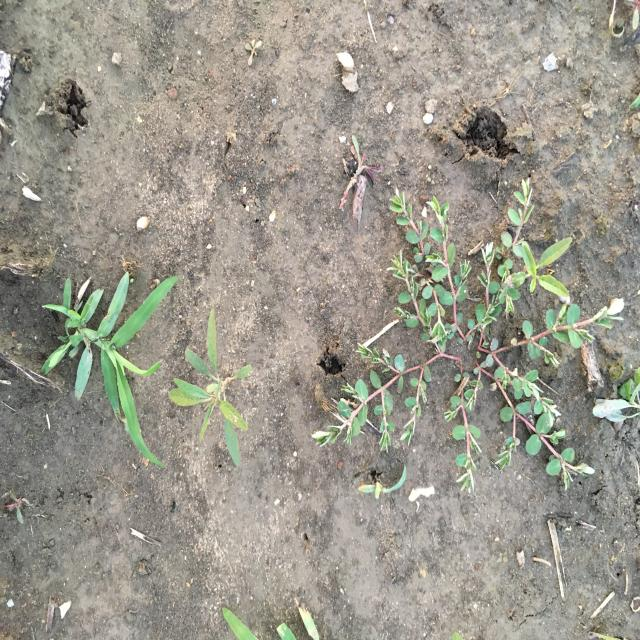Goosegrass: (41, 270, 181, 469)
SpottedSpurge: (309, 176, 626, 498)
Waterhemp: (168, 305, 253, 468)
